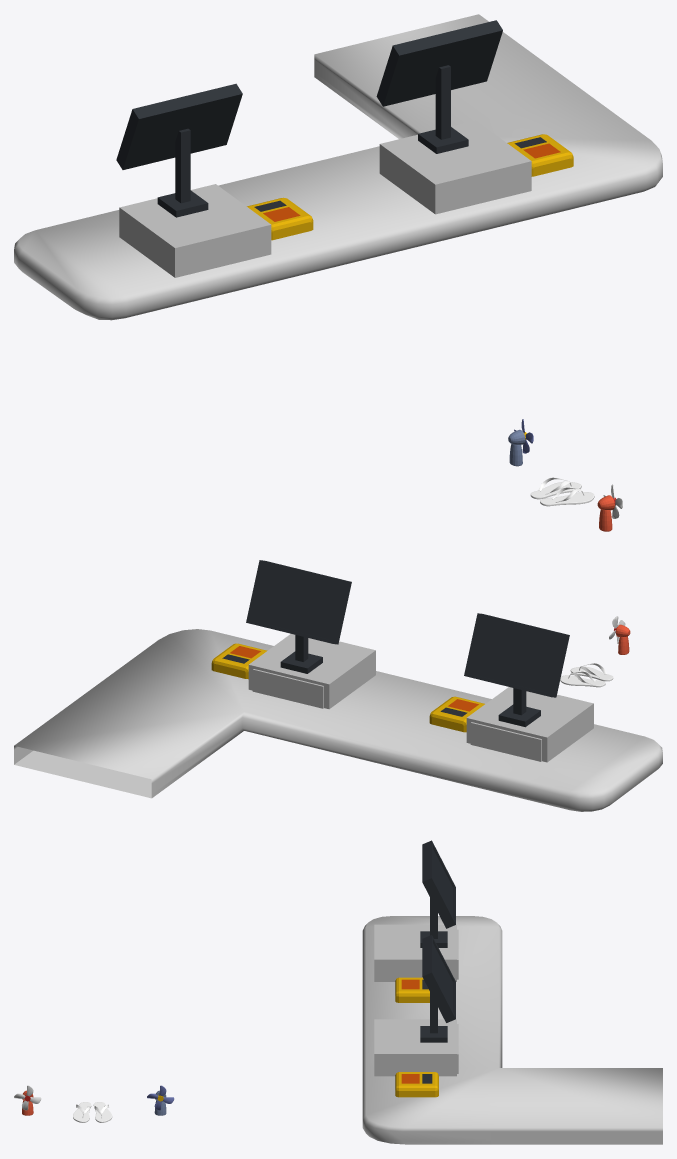
Rendered from store JHC patch.fbx.
3 renders of one model, top to bottom at view 1: azimuth 30°, elevation 25°; view 2: azimuth 150°, elevation 25°; view 3: azimuth 270°, elevation 25°, orthographic. The views are drawn at different scales.
Parts seen in each view (by area): view 1: counter.039, cashier drawer.023, cashier drawer.022, cashier monitor.035, cashier monitor.034, octopus.016, octopus.017, slipper.001; view 2: counter.039, cashier monitor.034, cashier monitor.035, cashier drawer.023, cashier drawer.022, octopus.017, octopus.016, slipper.001; view 3: counter.039, cashier drawer.022, cashier drawer.023, cashier monitor.034, cashier monitor.035, octopus.016, octopus.017, slipper.001.
Part boxes in pixels (<box>): counter.039: <box>14,14,662,320</box>; cashier drawer.023: <box>119,184,271,277</box>; cashier drawer.022: <box>379,120,531,214</box>; cashier monitor.035: <box>116,83,242,217</box>; cashier monitor.034: <box>376,20,502,153</box>; octopus.016: <box>507,134,573,176</box>; octopus.017: <box>247,197,313,240</box>; slipper.001: <box>530,477,594,506</box>; counter.039: <box>14,629,662,811</box>; cashier monitor.034: <box>246,560,351,673</box>; cashier monitor.035: <box>464,613,569,727</box>; cashier drawer.023: <box>466,687,593,762</box>; cashier drawer.022: <box>248,634,375,709</box>; octopus.017: <box>429,696,484,732</box>; octopus.016: <box>211,643,267,679</box>; slipper.001: <box>560,663,613,687</box>; counter.039: <box>362,916,662,1144</box>; cashier drawer.022: <box>374,1019,458,1076</box>; cashier drawer.023: <box>374,924,458,981</box>; cashier monitor.034: <box>420,935,455,1042</box>; cashier monitor.035: <box>420,840,455,947</box>; octopus.016: <box>395,1072,438,1097</box>; octopus.017: <box>395,977,429,1002</box>; slipper.001: <box>73,1102,112,1122</box>.
Bounding box in the file's own units: 296 × 130 × 381.
